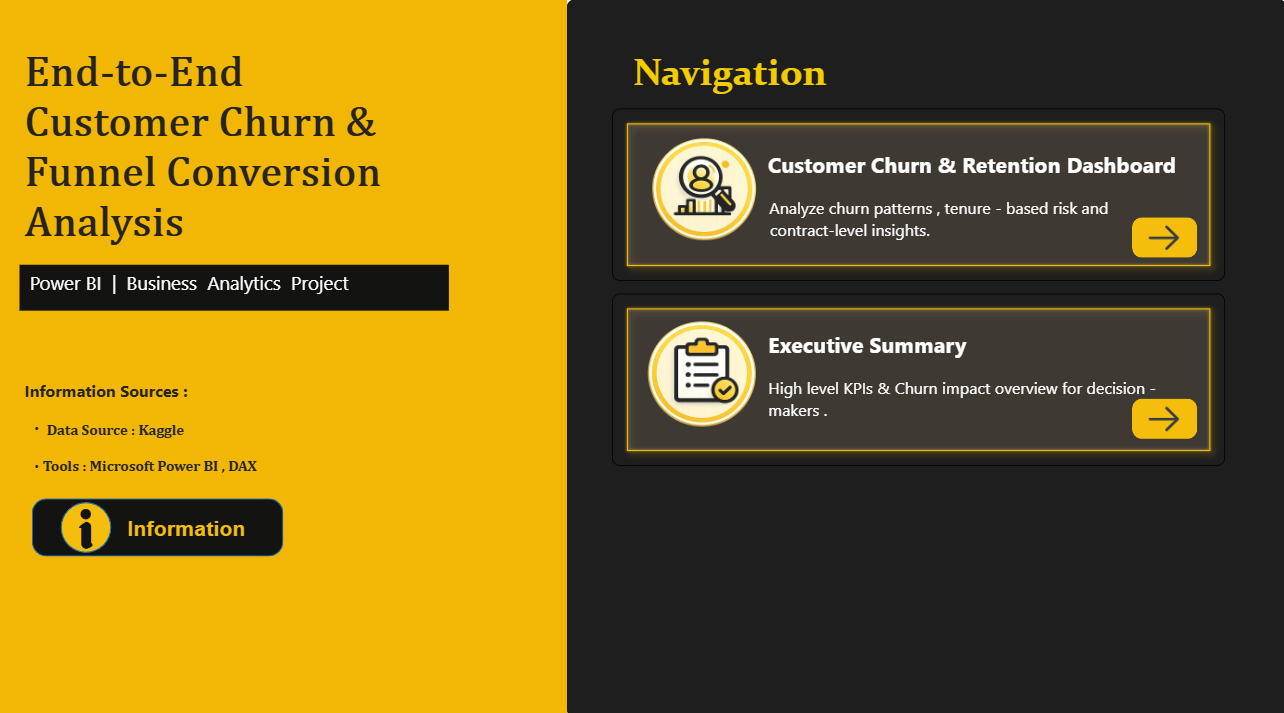

The dashboard page shown, as its layout file describes it:
{"tool":"powerbi","page":{"name":"Overview","canvas":[1280,720],"ordinal":0},"visuals":[{"type":"shape","box":[0,8.3,566.2,711.7],"z":0},{"type":"shape","box":[610.2,117.6,609,171.2],"z":0,"group":"g1"},{"type":"shape","box":[566.2,8.6,714.1,711.7],"z":1000},{"type":"textbox","box":[627.4,128.6,574.7,149.2],"z":1000,"group":"g1"},{"type":"textbox","box":[22,53.8,498.9,218.9],"z":2000,"group":"g2"},{"type":"group","id":"g1","title":"Group 1","box":[576,53.8,643.2,454.8],"z":2000},{"type":"image","box":[587,85.2,232.3,236],"z":2000,"group":"g1"},{"type":"group","id":"g2","title":"Group 2","box":[22,53.8,498.9,507.5],"z":3000},{"type":"textbox","box":[22,272.7,426.8,45.2],"z":3000,"group":"g2"},{"type":"shape","box":[610.2,301.3,609,171.2],"z":3000,"group":"g1"},{"type":"image","box":[576,265.2,255.6,243.3],"z":4000,"group":"g1"},{"type":"textbox","box":[22,381.5,377.9,110.1],"z":4000,"group":"g2"},{"type":"textbox","box":[760.6,331.3,419.4,111.3],"z":5000,"group":"g1"},{"type":"shape","box":[34.2,503.8,249.5,57.5],"z":5000,"group":"g2"},{"type":"textbox","box":[610.2,53.8,342.4,64.8],"z":6000,"group":"g1"},{"type":"textbox","box":[22,517.3,261.7,41.6],"z":6000,"group":"g2"},{"type":"shape","box":[1127.5,225,64.8,40.4],"z":10000,"group":"g1"},{"type":"shape","box":[1127.5,404.8,64.8,40.4],"z":11000,"group":"g1"},{"type":"image","box":[1127.5,402.3,64.8,46.5],"z":12000,"group":"g1"},{"type":"image","box":[1127.5,222.6,64.8,46.5],"z":13000,"group":"g1"},{"type":"shape","box":[62.4,508.7,50.1,50.1],"z":17000,"group":"g2"},{"type":"image","box":[40.3,508.7,94.2,52.6],"z":18000,"group":"g2"}]}

Visuals, with their boxes in screenshot pixels (x1, y1, x2, y2), scaled from the page's 1280x720 canvas onto the 1284x713 screenshot:
shape: 0,8,568,712
shape: 612,116,1223,286
shape: 568,9,1283,712
textbox: 629,127,1206,275
textbox: 22,53,523,270
"Group 1" group: 578,53,1223,504
image: 589,84,822,318
"Group 2" group: 22,53,523,556
textbox: 22,270,450,315
shape: 612,298,1223,468
image: 578,263,834,504
textbox: 22,378,401,487
textbox: 763,328,1184,438
shape: 34,499,285,556
textbox: 612,53,956,117
textbox: 22,512,285,553
shape: 1131,223,1196,263
shape: 1131,401,1196,441
image: 1131,398,1196,444
image: 1131,220,1196,266
shape: 63,504,113,553
image: 40,504,135,556
